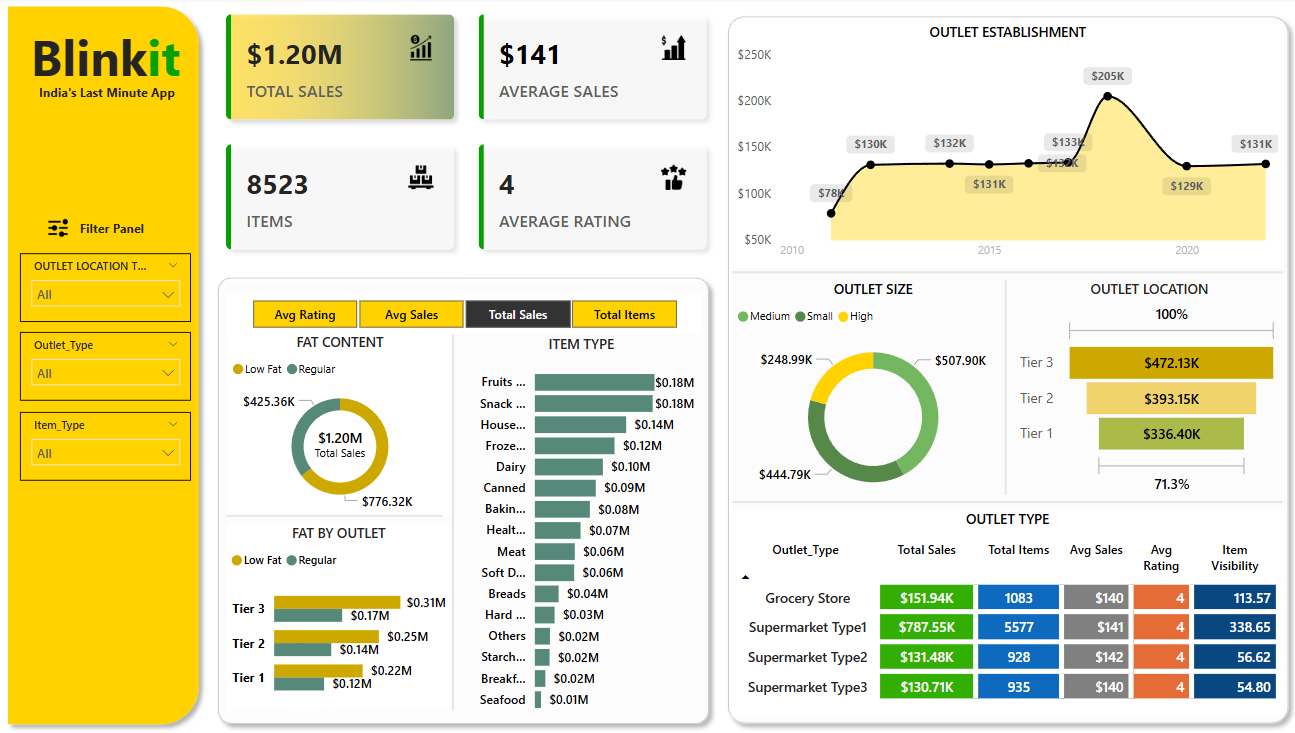

What the dashboard file says about the page in this screenshot:
{"tool":"powerbi","page":{"name":"Page 1","canvas":[1280,720],"ordinal":0},"visuals":[{"type":"shape","box":[9,0,205.1,720.5],"z":0},{"type":"textbox","box":[28.8,20.6,167.4,78.2],"z":1000},{"type":"shape","box":[214.1,265.4,498.7,455.1],"z":2000},{"type":"donutChart","title":"FAT CONTENT","fields":{"Y":["PBI.Total Sales"],"Category":["PBI.Item_Fat_Content"]},"box":[232.3,327.7,220.1,179.8],"z":3000},{"type":"cardVisual","fields":{"Data":["PBI.Total Sales"]},"box":[298.4,399.9,88,75.8],"z":4000},{"type":"slicer","title":"OUTLET ESTABLISHMENT","fields":{"Values":["Metrics.Metrics"]},"box":[231.1,289.8,464.7,40.4],"z":5000},{"type":"clusteredBarChart","title":"FAT BY OUTLET","fields":{"Y":["PBI.Total Sales"],"Category":["PBI.Outlet_Location_Type"],"Series":["PBI.Item_Fat_Content"]},"box":[231.1,514.8,220.1,183.4],"z":6000},{"type":"shape","box":[230.8,491,211.5,32.1],"z":7000},{"type":"shape","box":[442.3,330.8,20.5,367.9],"z":8000},{"type":"shape","box":[712.8,10.3,566.7,710.3],"z":9000},{"type":"lineChart","title":"OUTLET ESTABLISHMENT","fields":{"Y":["PBI.Total Sales"],"Category":["PBI.Outlet_Establishment_Year"]},"box":[726.9,24.5,538.8,240.9],"z":10000},{"type":"donutChart","title":"OUTLET SIZE","fields":{"Y":["PBI.Total Sales"],"Category":["PBI.Outlet_Size"]},"box":[726.4,276.4,275.1,225],"z":11000},{"type":"barChart","title":"ITEM TYPE","fields":{"Y":["PBI.Total Sales"],"Category":["PBI.Item_Type"]},"box":[462.2,330.2,232.3,379.1],"z":12000},{"type":"shape","box":[726.9,250,538.5,39.7],"z":13000},{"type":"shape","box":[985.6,276.4,16.1,210.1],"z":14000},{"type":"funnel","title":"OUTLET LOCATION","fields":{"Y":["PBI.Total Sales"],"Category":["PBI.Outlet_Location_Type"]},"box":[1002.7,276.4,262.9,215.2],"z":15000},{"type":"shape","box":[726.4,474.5,538,39.1],"z":16000},{"type":"pivotTable","title":"OUTLET TYPE","fields":{"Rows":["PBI.Outlet_Type"],"Values":["PBI.Total Sales","PBI.Total Items","PBI.Avg Sales","PBI.Avg Rating","Sum(PBI.Item_Visibility)"]},"box":[725.1,501.4,540.5,202.3],"z":17000},{"type":"slicer","fields":{"Values":["PBI.Outlet_Location_Type"]},"box":[29.3,250.7,167.5,67.3],"z":18000},{"type":"slicer","fields":{"Values":["PBI.Outlet_Type"]},"box":[29.3,327.7,167.5,67.3],"z":19000},{"type":"slicer","fields":{"Values":["PBI.Item_Type"]},"box":[29.3,406,167.5,67.3],"z":20000},{"type":"cardVisual","fields":{"Data":["PBI.tot_sales","PBI.avg_sales","PBI.tot_item_count","PBI.avg_rating"]},"box":[214,0,504.5,265.4],"z":21000},{"type":"textbox","box":[35.5,211.6,167.5,29.3],"z":22000},{"type":"textbox","box":[30.6,78.3,167.5,42.8],"z":23000},{"type":"image","box":[51.4,209.1,30.6,34.2],"z":24000}]}

Visuals, with their boxes in screenshot pixels (x1, y1, x2, y2), scaled from the page's 1280x720 canvas onto the 1295x733 screenshot:
shape: 9, 0, 217, 732
textbox: 29, 21, 198, 101
shape: 217, 270, 721, 732
"FAT CONTENT" donutChart: 235, 334, 458, 517
cardVisual - PBI.Total Sales: 302, 407, 391, 484
"OUTLET ESTABLISHMENT" slicer: 234, 295, 704, 336
"FAT BY OUTLET" clusteredBarChart: 234, 524, 456, 711
shape: 234, 500, 447, 533
shape: 447, 337, 468, 711
shape: 721, 10, 1294, 732
"OUTLET ESTABLISHMENT" lineChart: 735, 25, 1281, 270
"OUTLET SIZE" donutChart: 735, 281, 1013, 510
"ITEM TYPE" barChart: 468, 336, 703, 722
shape: 735, 255, 1280, 295
shape: 997, 281, 1013, 495
"OUTLET LOCATION" funnel: 1014, 281, 1280, 500
shape: 735, 483, 1279, 523
"OUTLET TYPE" pivotTable: 734, 510, 1280, 716
slicer - PBI.Outlet_Location_Type: 30, 255, 199, 324
slicer - PBI.Outlet_Type: 30, 334, 199, 402
slicer - PBI.Item_Type: 30, 413, 199, 482
cardVisual - PBI.tot_sales x PBI.avg_sales: 217, 0, 727, 270
textbox: 36, 215, 205, 245
textbox: 31, 80, 200, 123
image: 52, 213, 83, 248
